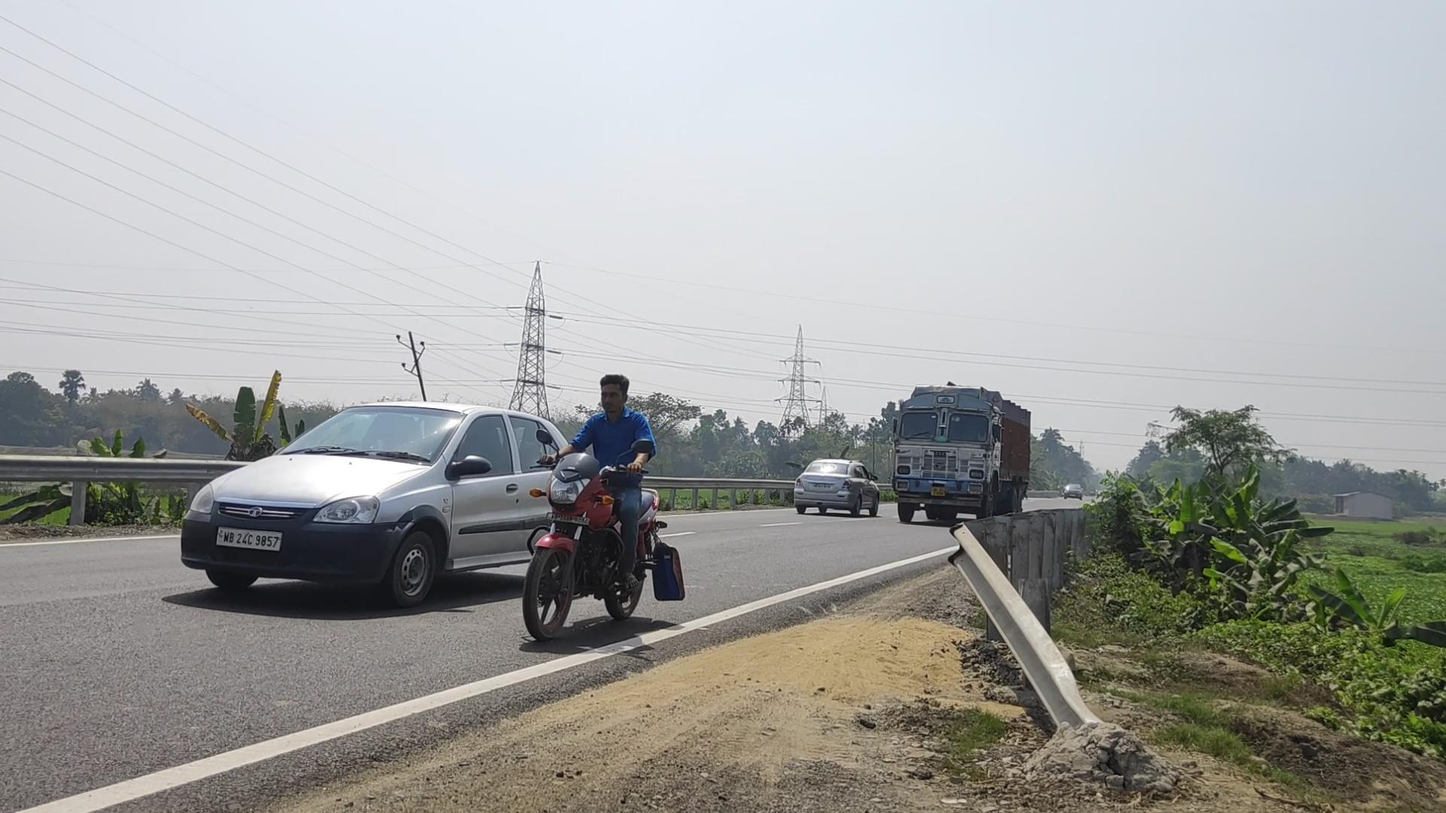bike: (522, 374, 685, 643)
car: (181, 400, 600, 609), (794, 458, 880, 517)
truck: (892, 385, 1031, 525)
